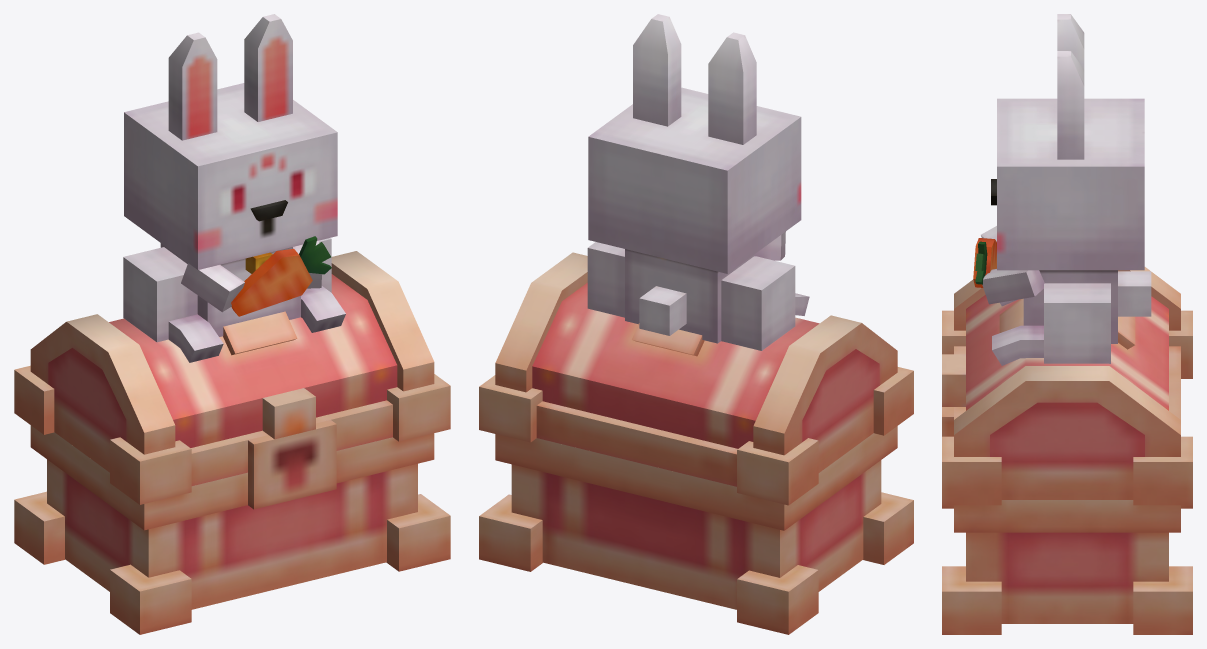
The model's file is jade_rabbit_box.glb.
The picture shows the model from 3 angles, left to right: view 1: azimuth 30°, elevation 25°; view 2: azimuth 150°, elevation 25°; view 3: azimuth 270°, elevation 25°; orthographic projection.
Parts seen in each view (by area): view 1: jade_rabbit; view 2: jade_rabbit; view 3: jade_rabbit.
Boxes of the visible parts, x1=… form: jade_rabbit: x1=14, y1=14, x2=450, y2=634; jade_rabbit: x1=479, y1=14, x2=913, y2=634; jade_rabbit: x1=942, y1=14, x2=1192, y2=634.
Bounding box in the file's own units: 9.96 × 16.08 × 6.97.
Materials: 1 (1 with a texture image).
